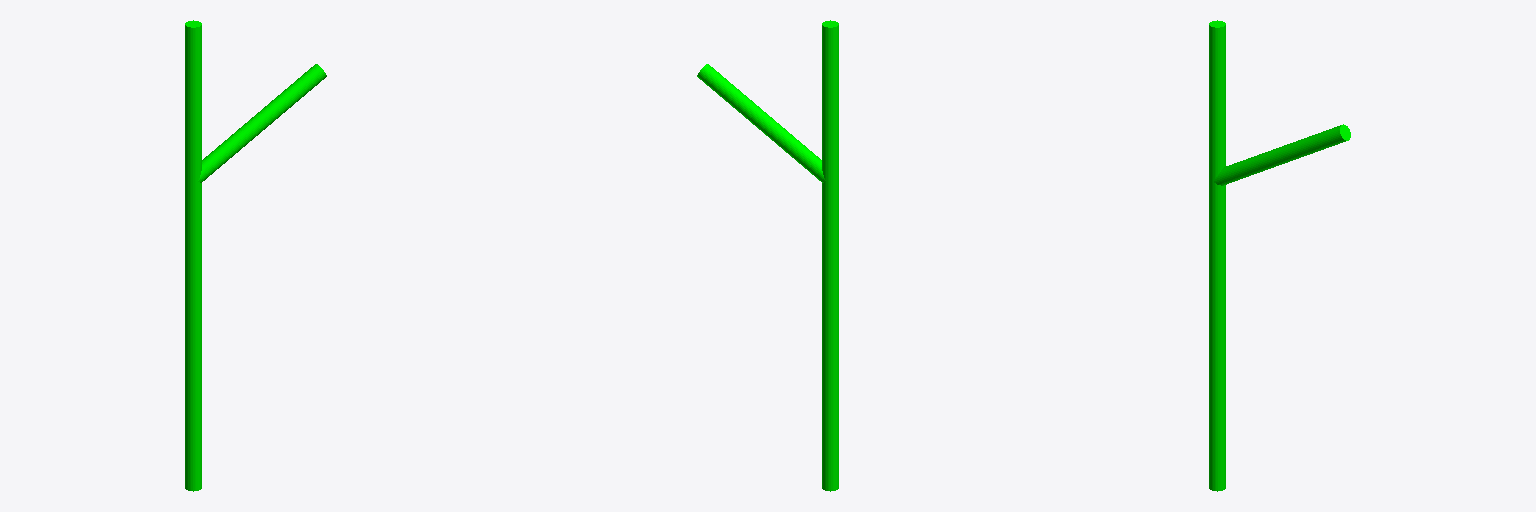
The robot description file, URDF, robot "hanger":
<?xml version="0.0" ?>
<robot name="hanger">
  <link name="base_link">
    <contact>
      <lateral_friction value="0.8"/>
      <rolling_friction value="0.0001"/>
      <spinning_friction value="0.8"/>
    </contact>
    <inertial>
      <origin rpy="0 0 0" xyz="0 0 0"/>
       <mass value=".0"/>
       <inertia ixx="1" ixy="0" ixz="0" iyy="1" iyz="0" izz="1"/>
    </inertial>
    <visual>
      <origin rpy="0 0 0" xyz="0 0 0.15"/>
      <geometry>
        <cylinder length="0.3" radius="0.005"/>
      </geometry>
       <material name="green">
        <color rgba="0 1 0 1"/>
      </material>
    </visual>
    <collision>
      <origin rpy="0 0 0" xyz="0 0 0.15"/>
      <geometry>
        <cylinder length="0.3" radius="0.005"/>
      </geometry>
    </collision>
  </link>

  <link name="branch">
    <contact>
      <lateral_friction value="0.1"/>
      <rolling_friction value="0.0001"/>
      <spinning_friction value="0.1"/>
    </contact>
    <inertial>
      <origin rpy="0 0 0" xyz="0 0 0"/>
       <mass value=".0"/>
       <inertia ixx="1" ixy="0" ixz="0" iyy="1" iyz="0" izz="1"/>
    </inertial>
    <visual>
      <origin rpy="0 0 0" xyz="0 0 0.05"/>
      <geometry>
        <cylinder length="0.1" radius="0.005"/>
      </geometry>
       <material name="green">
        <color rgba="0 1 0 1"/>
      </material>
    </visual>
    <collision>
      <origin rpy="0 0 0" xyz="0 0 0.05"/>
      <geometry>
        <cylinder length="0.1" radius="0.003"/>
      </geometry>
    </collision>
  </link>

  <joint name="base_to_branch" type="fixed">
    <parent link="base_link"/>
    <child link="branch"/>
    <origin rpy="0 1.0471975511965977461 0" xyz="0 0 0.2"/>
  </joint>

</robot>

--- What the picture shows (computed from the rendered views, not written in the file) ---
Views: 3 orthographic renders of the robot side by side, from view 1: azimuth 30°, elevation 25°; view 2: azimuth 150°, elevation 25°; view 3: azimuth 330°, elevation 25°.
Model hanger with 2 links and 1 joints (1 fixed), rooted at base_link, posed every joint at zero.
Visible links, largest first — view 1: base_link, branch; view 2: base_link, branch; view 3: base_link, branch.
Boxes of the visible links, <box> form: base_link: <box>185,20,201,491</box>; branch: <box>198,64,326,182</box>; base_link: <box>822,20,838,491</box>; branch: <box>697,64,825,182</box>; base_link: <box>1209,20,1225,491</box>; branch: <box>1213,124,1350,185</box>.
Bounding box of the posed robot: 0.0941 × 0.01 × 0.3 m (x, y, z).
Geometry: primitives only (box / cylinder / sphere), no mesh files.